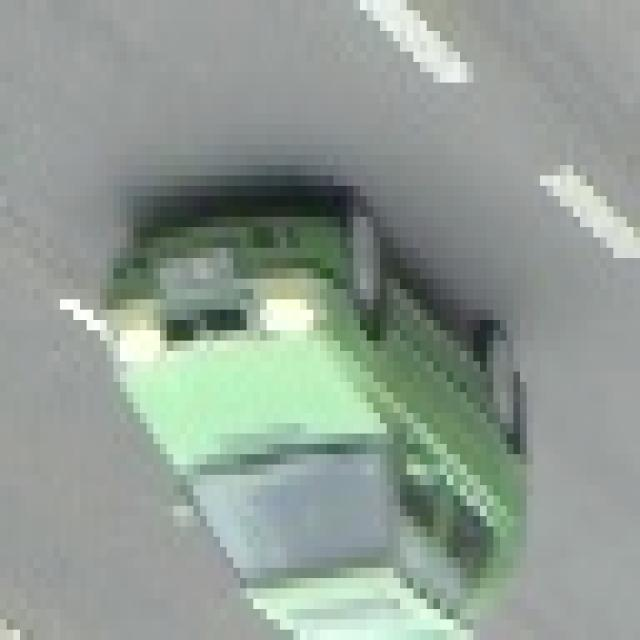green: (107, 197, 530, 640)
